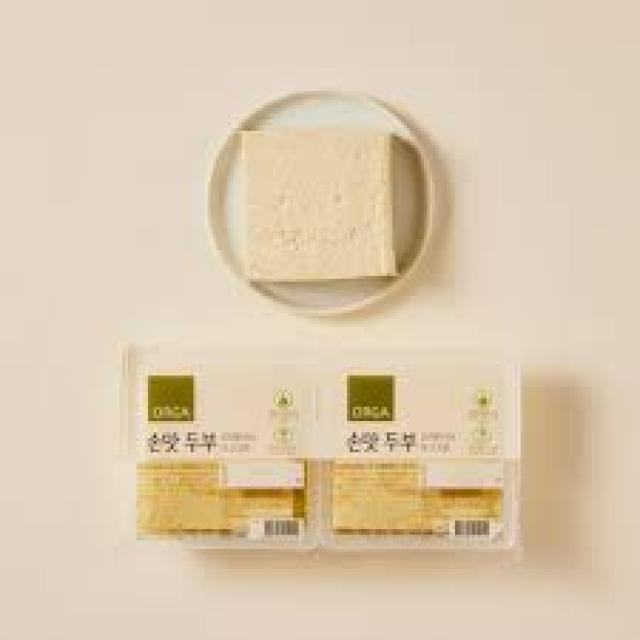tofu: (101, 324, 547, 563), (213, 104, 433, 304)
